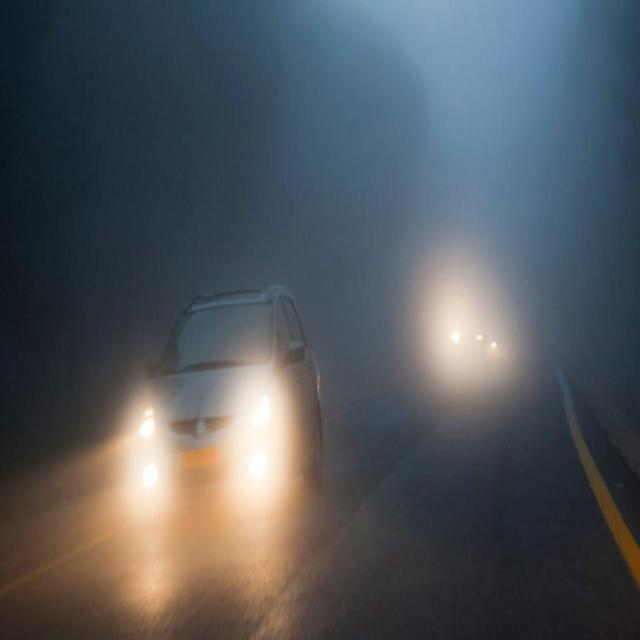Car: (135, 256, 319, 540), (444, 294, 484, 369)
